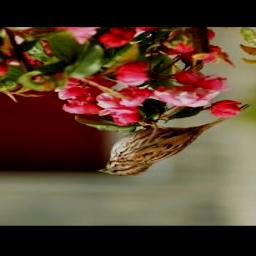Sparrow: (95, 101, 256, 179)
